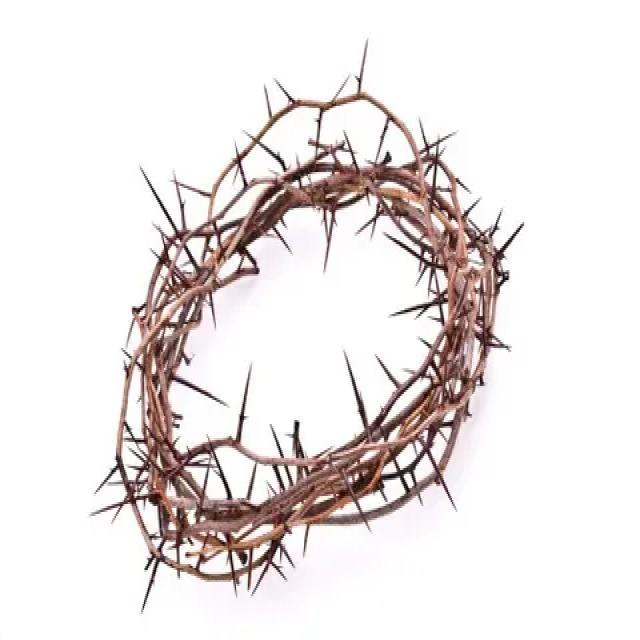crown: (104, 76, 515, 583)
